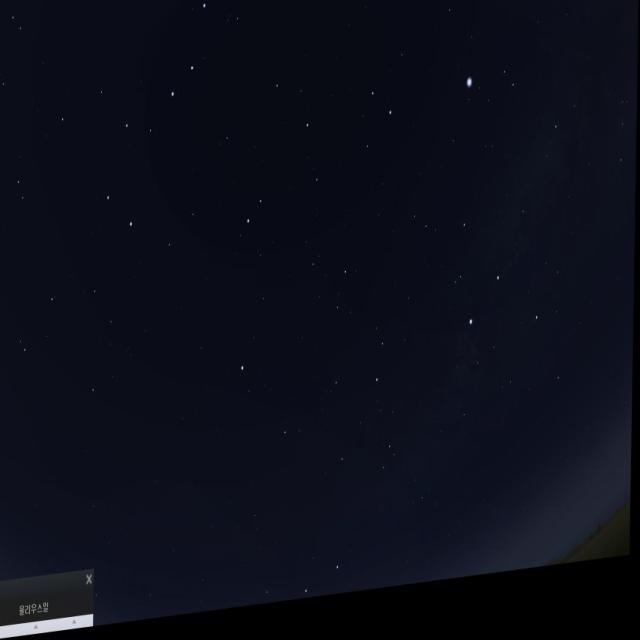cygnus: (449, 127, 568, 358)
lyra: (463, 64, 523, 144)
ursa_major: (98, 17, 210, 244)
